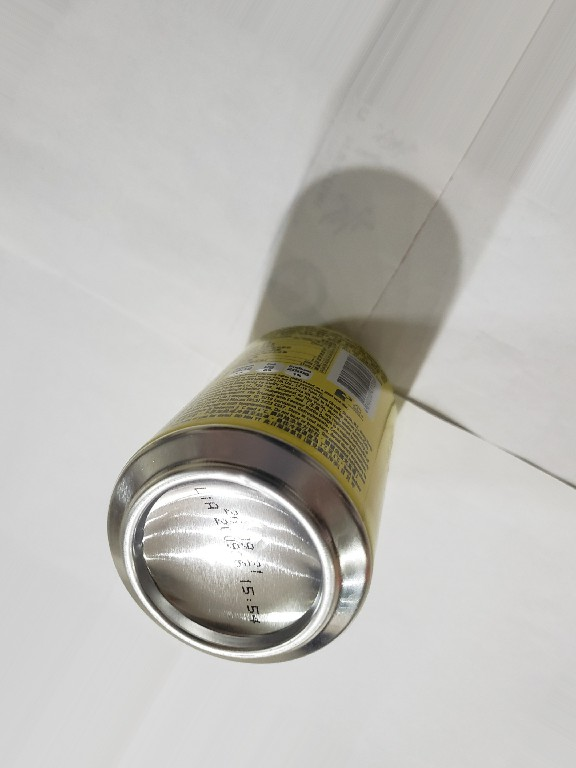can: (102, 321, 405, 666)
